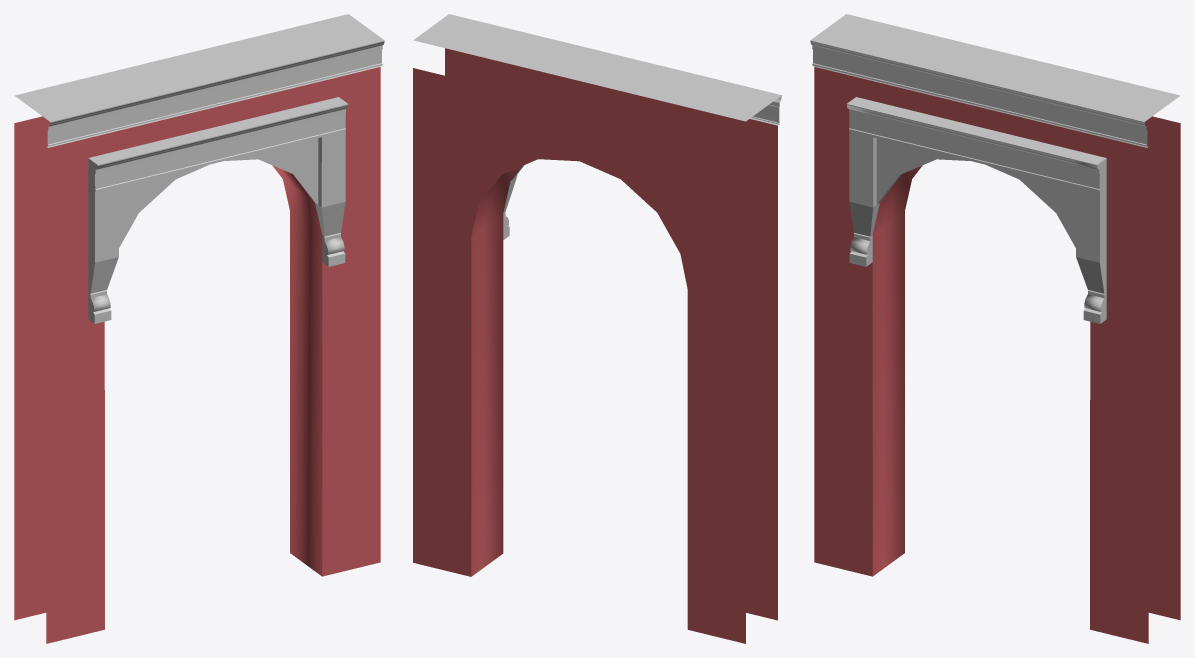
File: station_entrance_center.fbx
3 renders of one model, left to right at view 1: azimuth 30°, elevation 25°; view 2: azimuth 150°, elevation 25°; view 3: azimuth 330°, elevation 25°, orthographic.
Parts seen in each view (by area): view 1: entrance_center; view 2: entrance_center; view 3: entrance_center.
Boxes of the visible parts, x1=… form: entrance_center: x1=14, y1=14, x2=384, y2=643; entrance_center: x1=413, y1=14, x2=781, y2=643; entrance_center: x1=810, y1=14, x2=1180, y2=643.
Size of the model in its own units: 2.4 by 3.6 by 0.5186.
